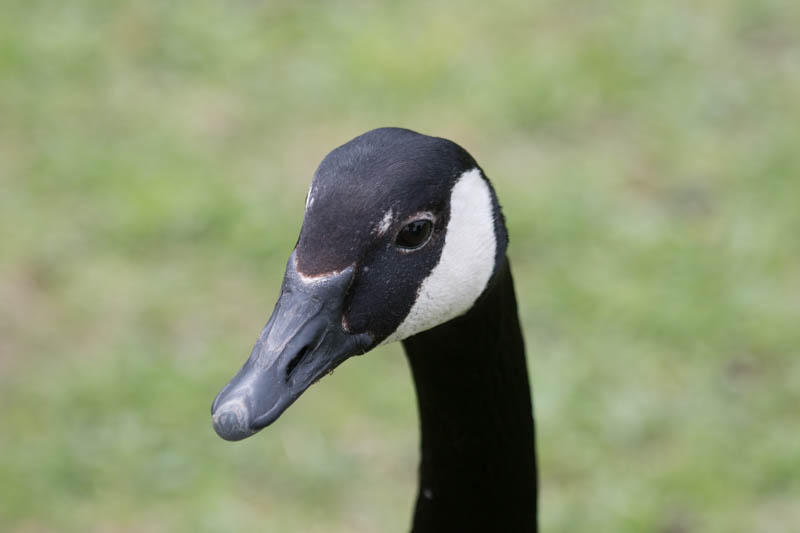goose-head: (211, 126, 510, 441)
